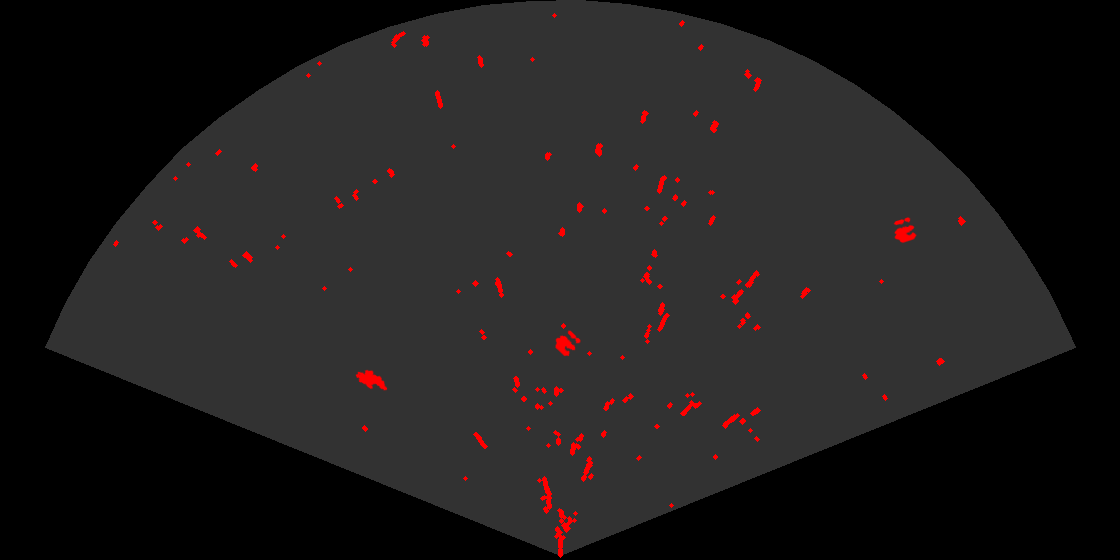AUV: (354, 368, 389, 392)
ball: (554, 329, 582, 358), (892, 216, 918, 245)
